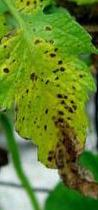Tomato Septoria leaf spot: (0, 0, 98, 201)
